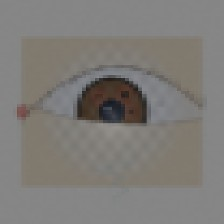foreign_body_visible: (103, 77, 147, 112)
